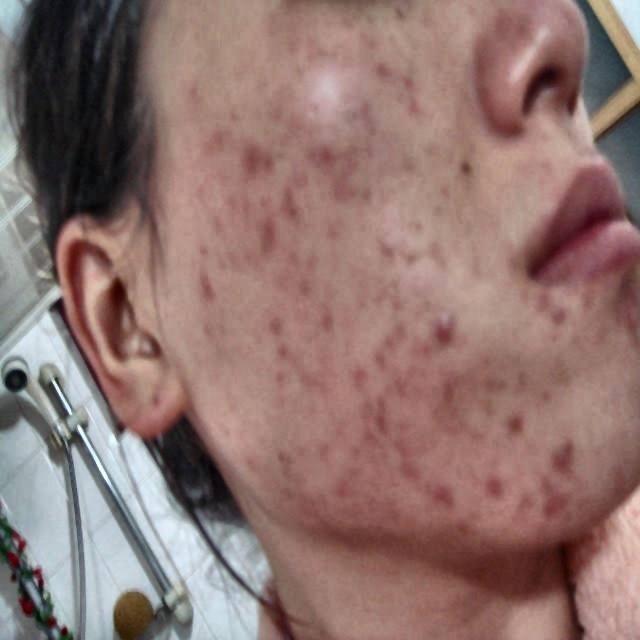pustule: (429, 304, 461, 349), (308, 143, 340, 180), (279, 179, 309, 217), (243, 132, 273, 169), (256, 210, 286, 243), (449, 510, 476, 546), (539, 495, 570, 523), (508, 487, 534, 518), (398, 449, 422, 480), (439, 376, 457, 416), (488, 474, 508, 509), (367, 399, 387, 434), (194, 264, 216, 295), (556, 433, 576, 466), (371, 336, 391, 369), (536, 464, 560, 488), (507, 408, 527, 431), (548, 298, 566, 322), (435, 482, 452, 506)
